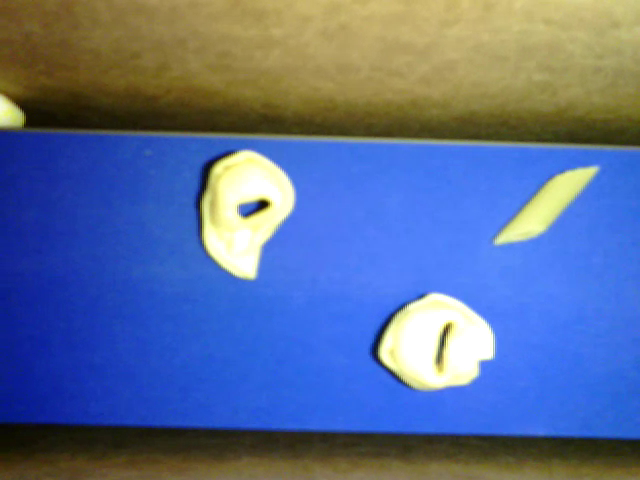penne: (493, 165, 599, 245)
tortellini: (198, 149, 297, 281), (375, 292, 495, 391)
